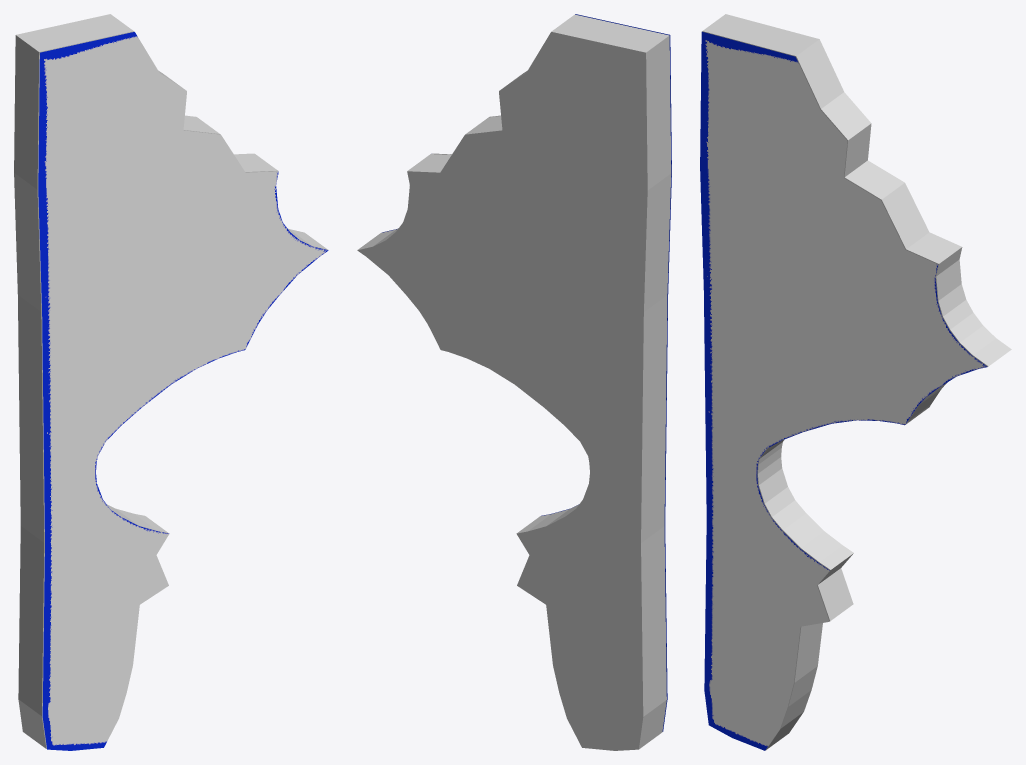
3 views of the same model, side by side, from view 1: azimuth 30°, elevation 25°; view 2: azimuth 150°, elevation 25°; view 3: azimuth 330°, elevation 25° (orthographic).
Visible parts, largest first — view 1: Out_1_1, Out_1_0; view 2: Out_1_0, Out_1_1; view 3: Out_1_1, Out_1_0.
Boxes of the visible parts, left/top/right/bottom form: Out_1_1: left=38, top=32, right=328, bottom=750; Out_1_0: left=14, top=14, right=327, bottom=748; Out_1_0: left=357, top=14, right=671, bottom=750; Out_1_1: left=382, top=14, right=671, bottom=731; Out_1_1: left=700, top=31, right=987, bottom=750; Out_1_0: left=702, top=14, right=1011, bottom=749.
Size of the model in its own units: 3.56 by 8.32 by 0.515.
2 materials, 1 textured.
